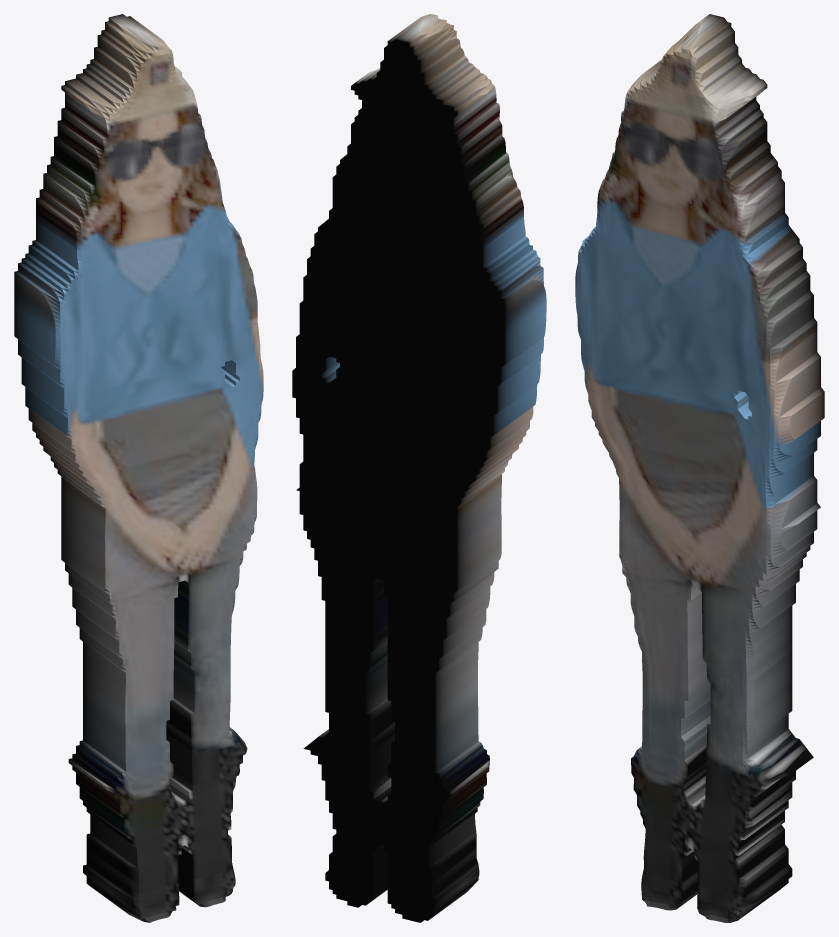
File: avatar_20260310_221513.glb
The picture shows the model from 3 angles, left to right: view 1: azimuth 30°, elevation 25°; view 2: azimuth 150°, elevation 25°; view 3: azimuth 330°, elevation 25°; orthographic projection.
Parts seen in each view (by area): view 1: world; view 2: world; view 3: world.
Boxes of the visible parts, left/top/right/bottom form: world: left=14, top=14, right=263, bottom=922; world: left=292, top=14, right=546, bottom=922; world: left=575, top=14, right=824, bottom=922.
Size of the model in its own units: 0.1484 by 0.586 by 0.0639.
